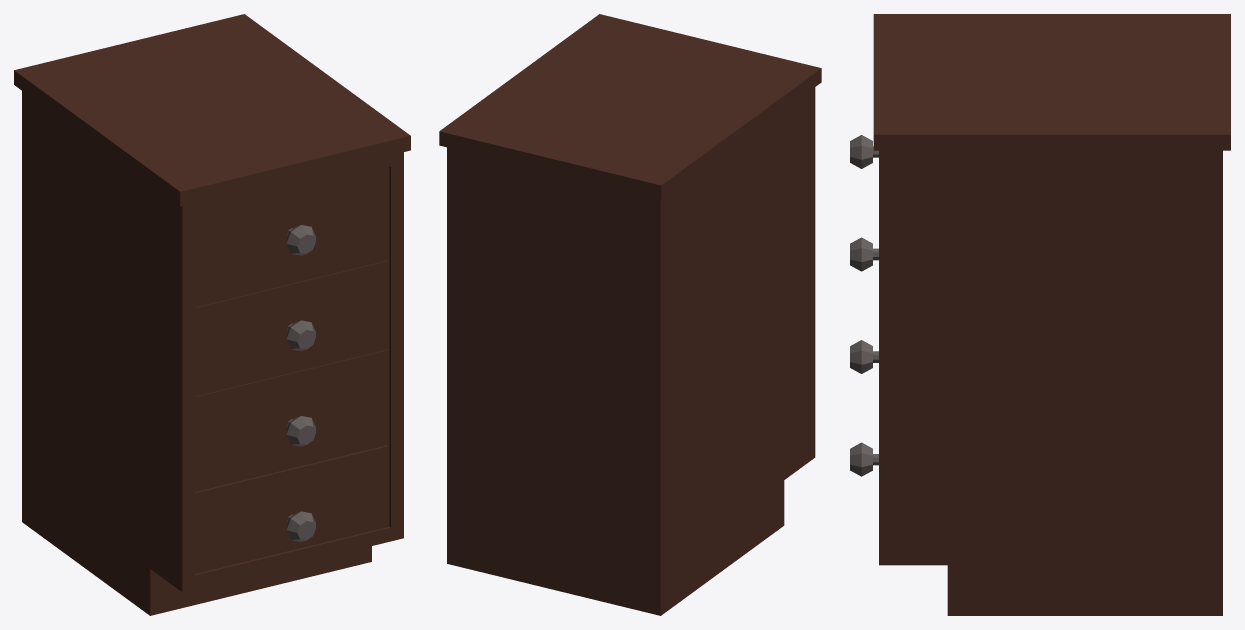
Rendered from counter.glb.
The picture shows the model from 3 angles, left to right: view 1: azimuth 30°, elevation 25°; view 2: azimuth 150°, elevation 25°; view 3: azimuth 270°, elevation 25°; orthographic projection. The views are drawn at different scales.
Visible parts, largest first — view 1: DrawersBaseCabinet, Drawer1DrawersBaseCabinet; view 2: DrawersBaseCabinet; view 3: DrawersBaseCabinet, Drawer1DrawersBaseCabinet.
Boxes of the visible parts, x1,y1,x2,y2 form: DrawersBaseCabinet: [14, 14, 410, 615]; Drawer1DrawersBaseCabinet: [195, 167, 389, 573]; DrawersBaseCabinet: [439, 14, 821, 615]; DrawersBaseCabinet: [873, 14, 1230, 615]; Drawer1DrawersBaseCabinet: [850, 135, 878, 476].
Bounding box in the file's own units: 0.4863 × 0.9081 × 0.6482.
